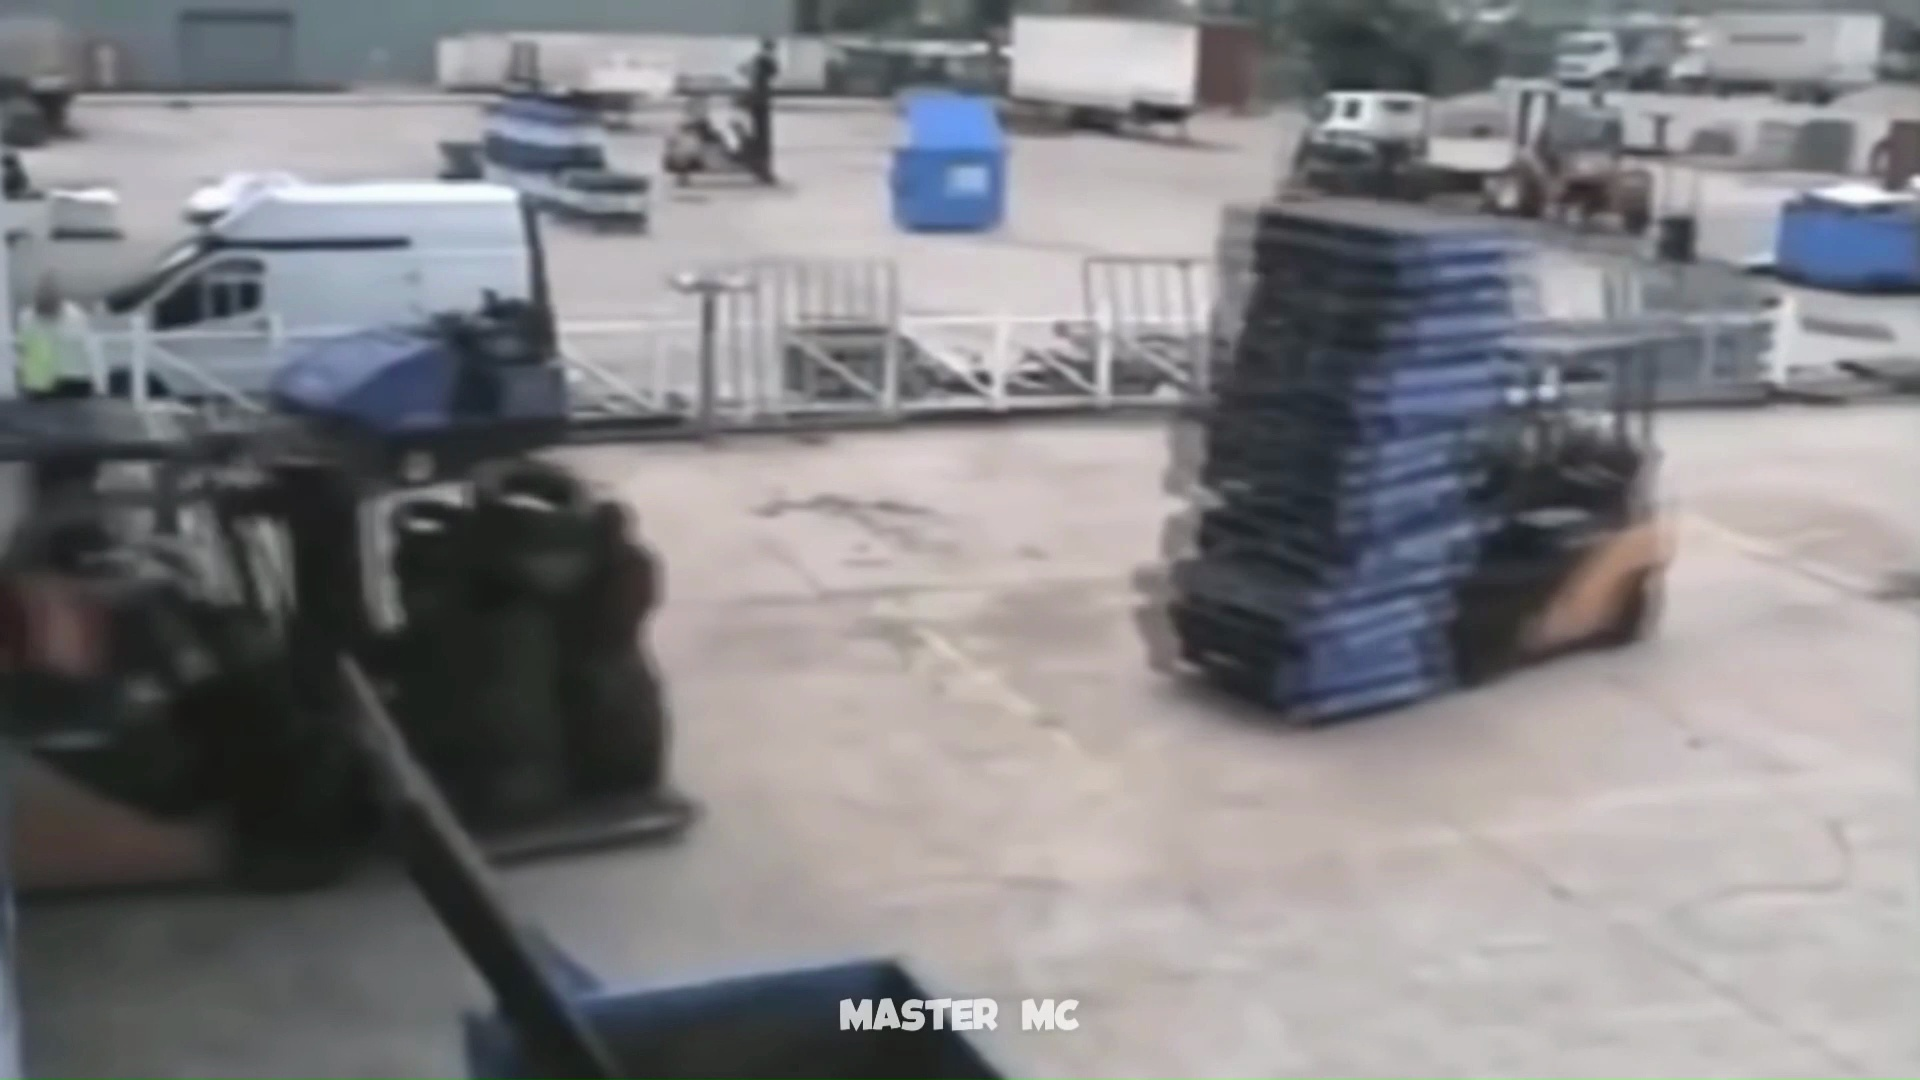forklift: (3, 396, 694, 874), (1167, 196, 1673, 723)
